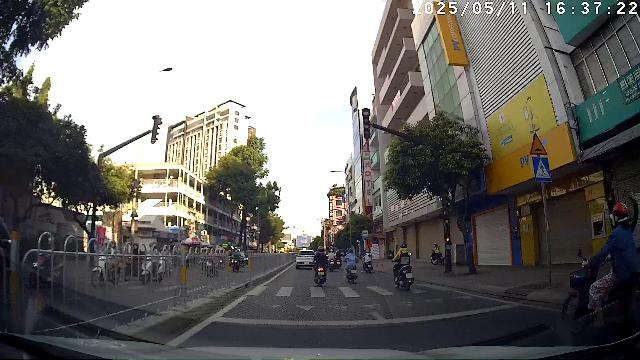423a-duong-nguoi-di-bo-sang-ngang-1: (532, 157, 551, 182)
